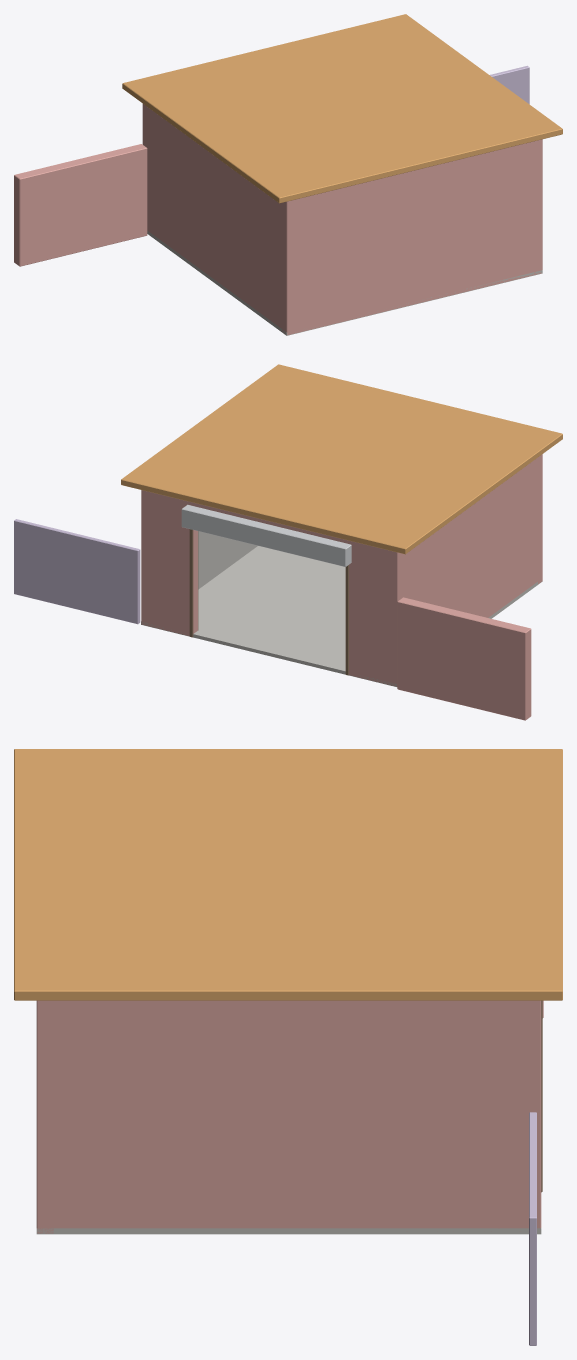
File: Sultanbeyli_Garage73_LilacGate.fbx
3 views of the same model, one above another, from view 1: azimuth 30°, elevation 25°; view 2: azimuth 150°, elevation 25°; view 3: azimuth 270°, elevation 25° (orthographic). The views are drawn at different scales.
Parts seen in each view (by area): view 1: Sultanbeyli_Garage73_LilacGate; view 2: Sultanbeyli_Garage73_LilacGate; view 3: Sultanbeyli_Garage73_LilacGate.
Part boxes in pixels (<box>): Sultanbeyli_Garage73_LilacGate: <box>14,14,562,335</box>; Sultanbeyli_Garage73_LilacGate: <box>14,364,562,720</box>; Sultanbeyli_Garage73_LilacGate: <box>14,749,562,1345</box>.
Size of the model in its own units: 12.8 by 3.53 by 6.8.
